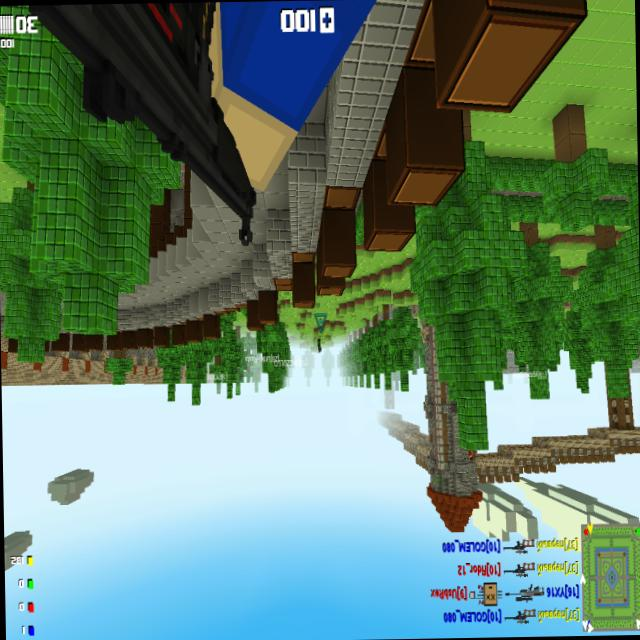enemy: (318, 338, 322, 353), (468, 450, 473, 460)
